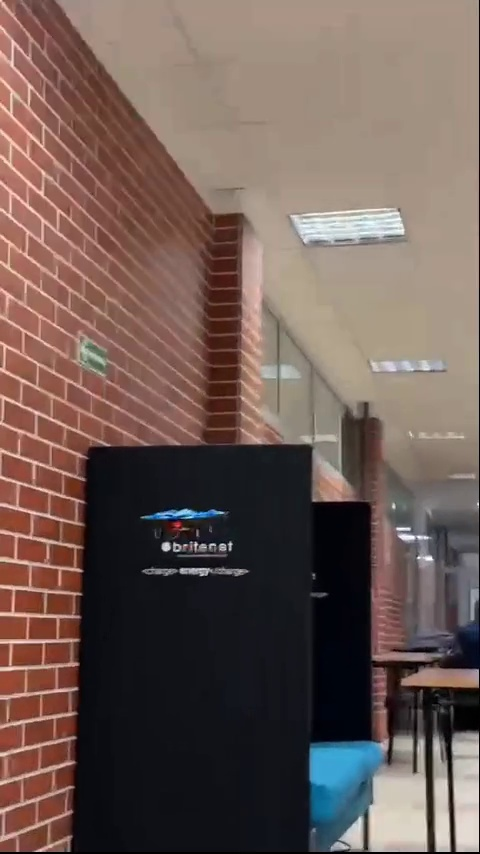drone: (138, 507, 231, 544)
